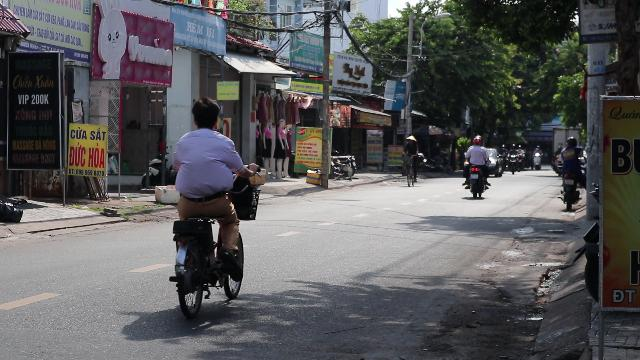motorcyclist: (164, 96, 256, 324)
nohelmet: (189, 98, 221, 130)
